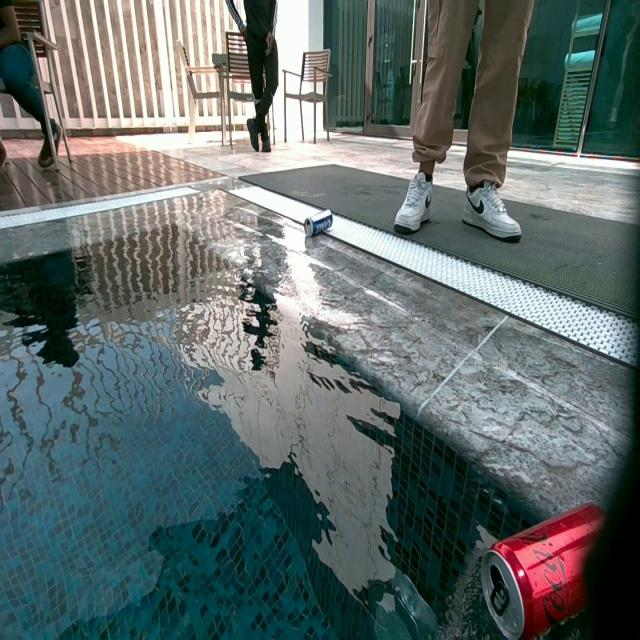Cans: (481, 504, 603, 640), (303, 208, 333, 239)
